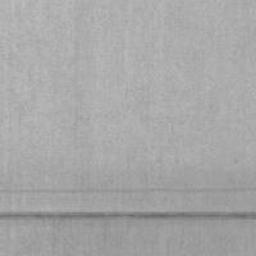Welding line: (0, 211, 256, 220)
